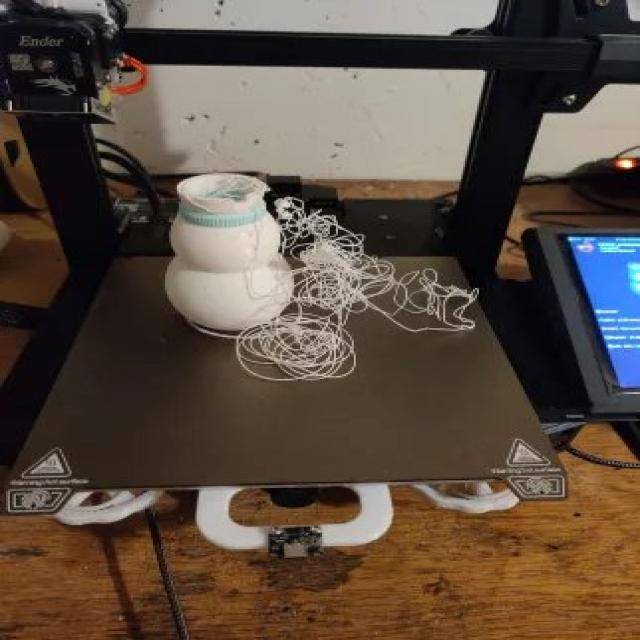spaghetti: (241, 189, 477, 393)
